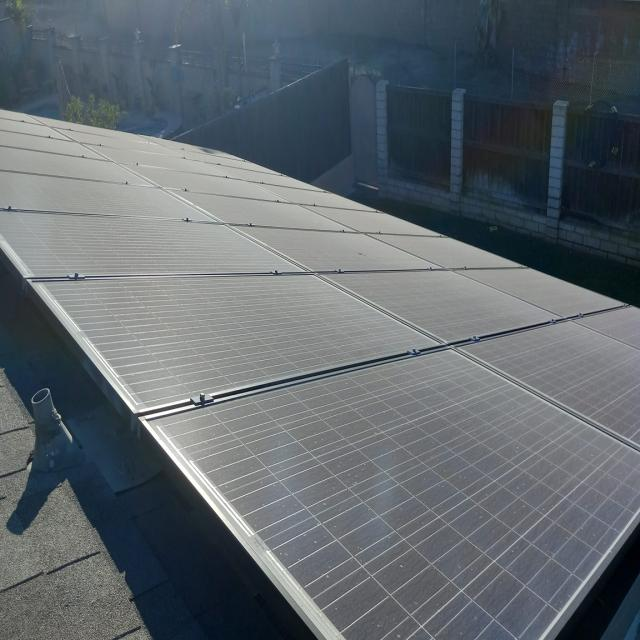dust-solar-panel: (0, 108, 639, 638)
